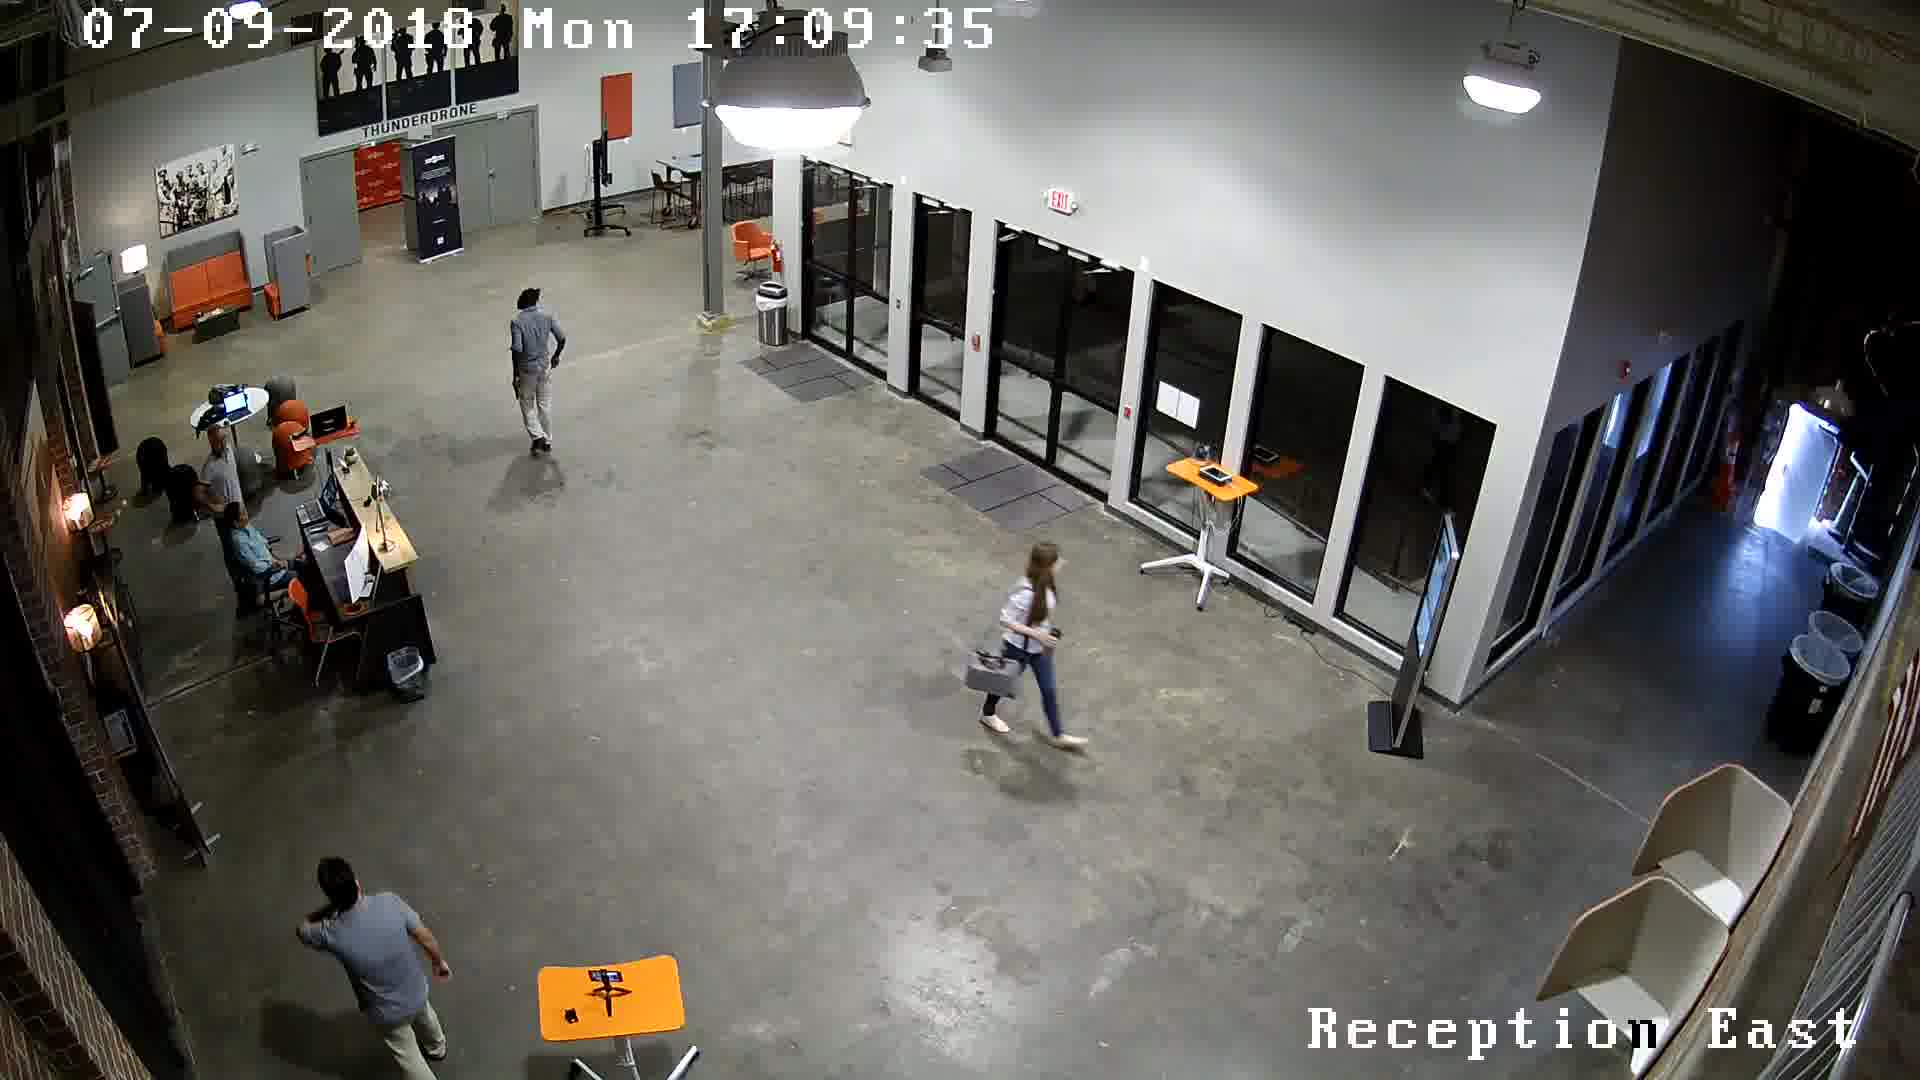pistol: (498, 367, 525, 407)
